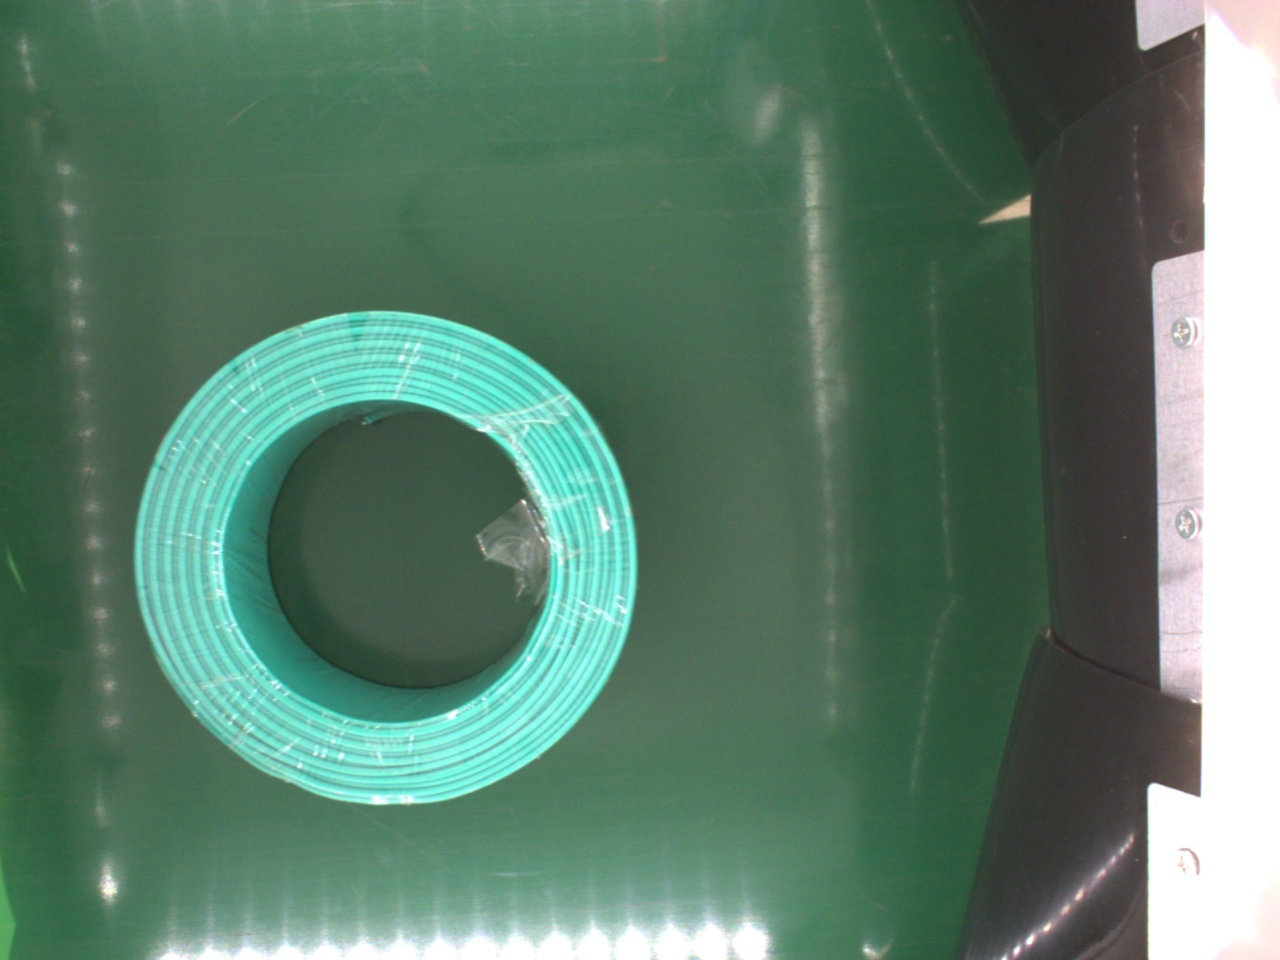green: (135, 313, 640, 810)
